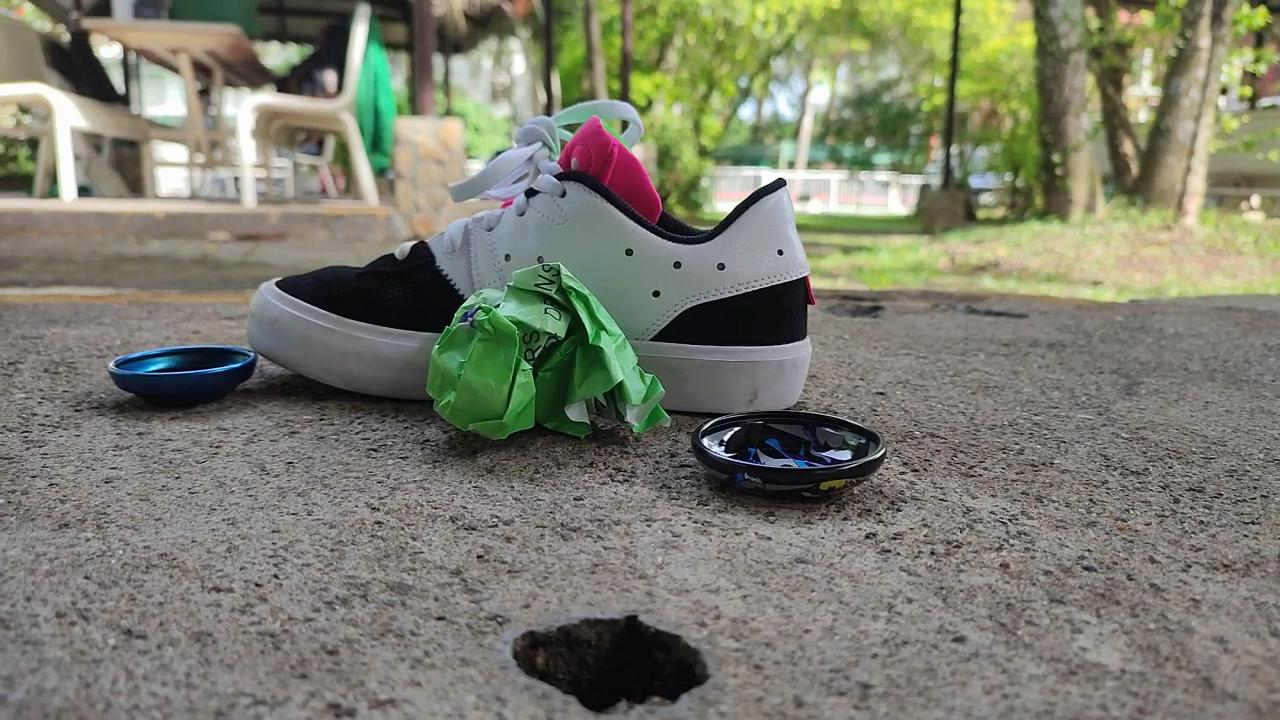Paper: (403, 247, 686, 465)
